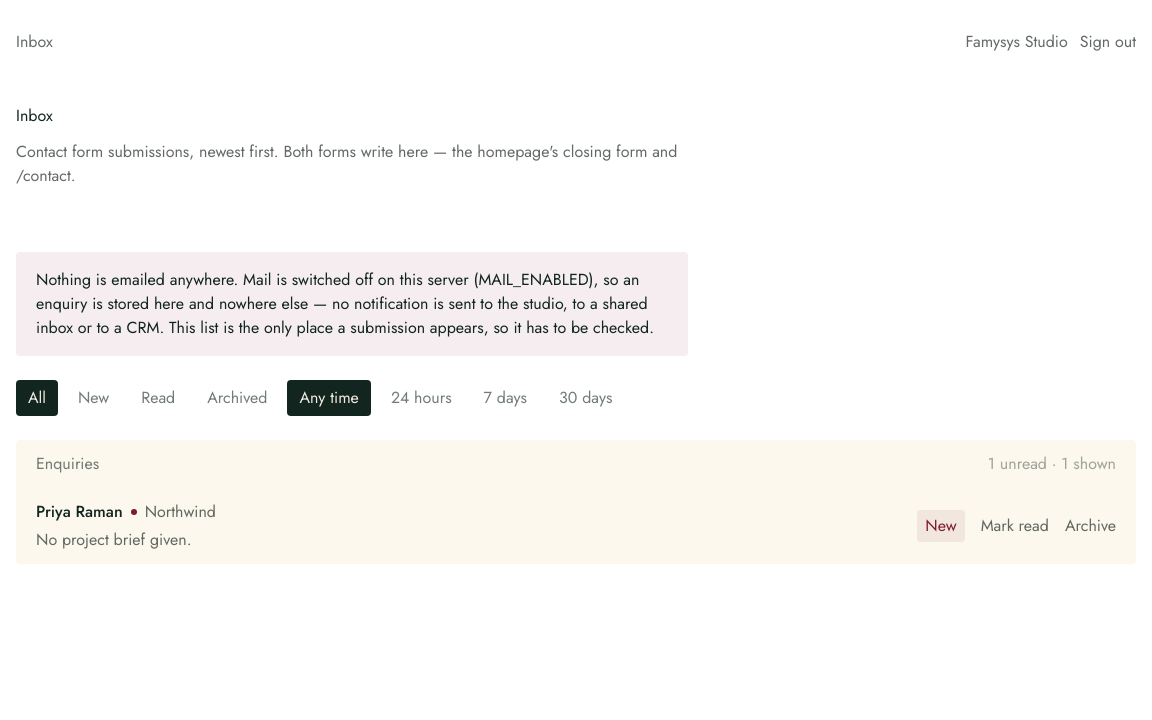
Scenario: InboxScreen › distinguishes a question never asked from one declined
Click the button "Priya Raman Northwind No project brief given." at (79, 512), box x1=36 y1=500 x2=901 y2=552
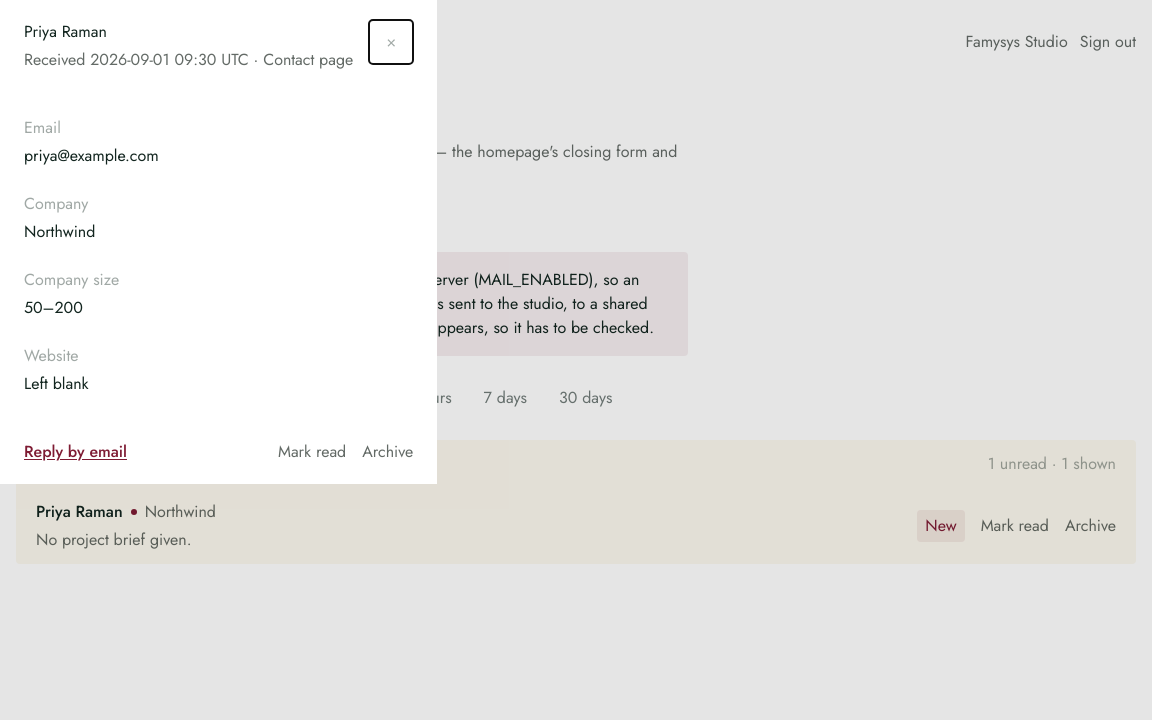
expect the text "Website" is shown: met, box x1=24 y1=344 x2=79 y2=367
expect the text "Left blank" is shown: met, box x1=24 y1=372 x2=89 y2=395
